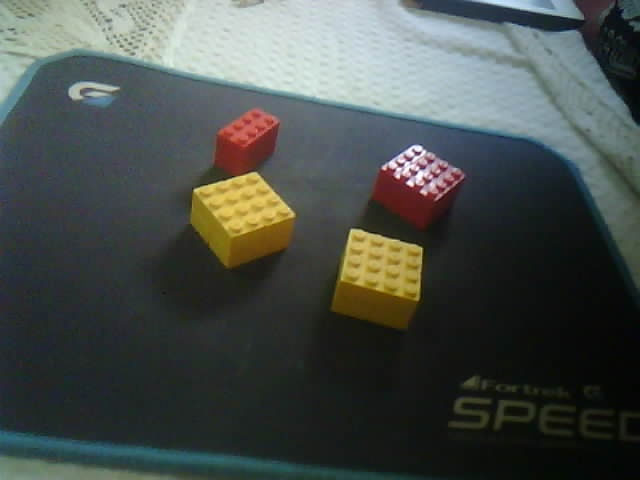lego: (189, 171, 298, 271), (329, 226, 424, 330), (370, 143, 466, 229), (214, 107, 280, 174)
